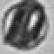correct: (1, 1, 52, 52)
